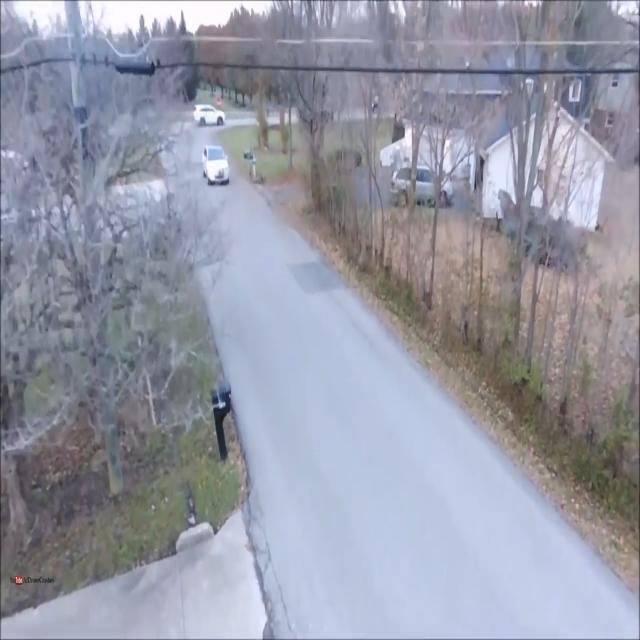Pole: (65, 3, 125, 497)
Tree: (0, 2, 194, 509), (490, 4, 588, 393), (392, 2, 466, 311), (293, 4, 345, 222)
Vehicle: (390, 154, 455, 210), (201, 142, 231, 188), (194, 100, 228, 130)
